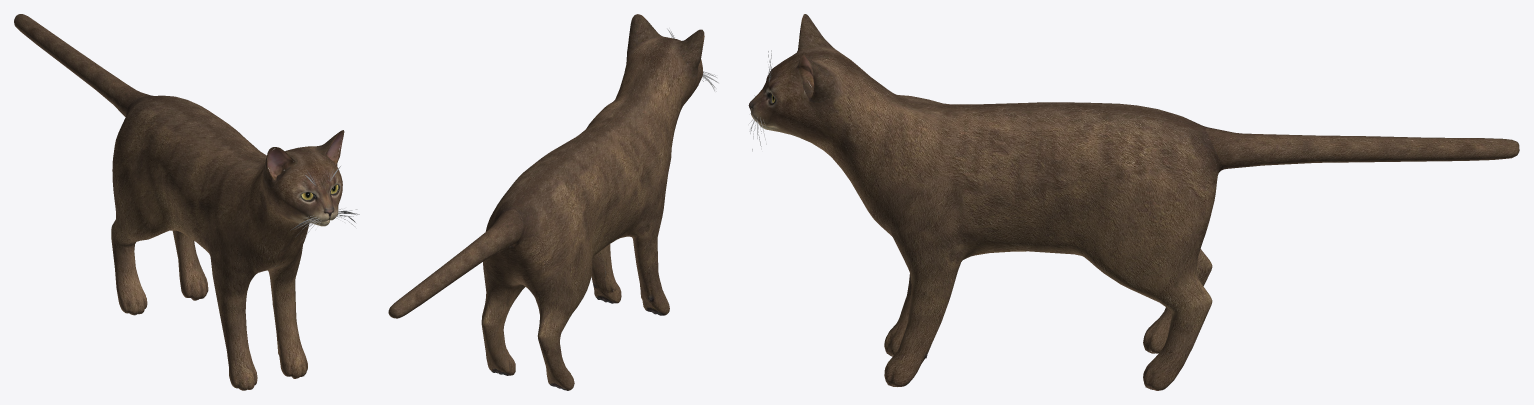
The model's file is flood-cat.glb.
3 renders of one model, left to right at view 1: azimuth 30°, elevation 25°; view 2: azimuth 150°, elevation 25°; view 3: azimuth 270°, elevation 25°, orthographic. The views are drawn at different scales.
Visible parts, largest first — view 1: flood-cat; view 2: flood-cat; view 3: flood-cat.
Boxes of the visible parts, <box> form: flood-cat: <box>14,14,359,390</box>; flood-cat: <box>388,14,718,390</box>; flood-cat: <box>748,14,1519,390</box>.
Size of the model in its own units: 0.1372 by 0.3937 by 0.8202.
Materials: 15 (15 with a texture image).
